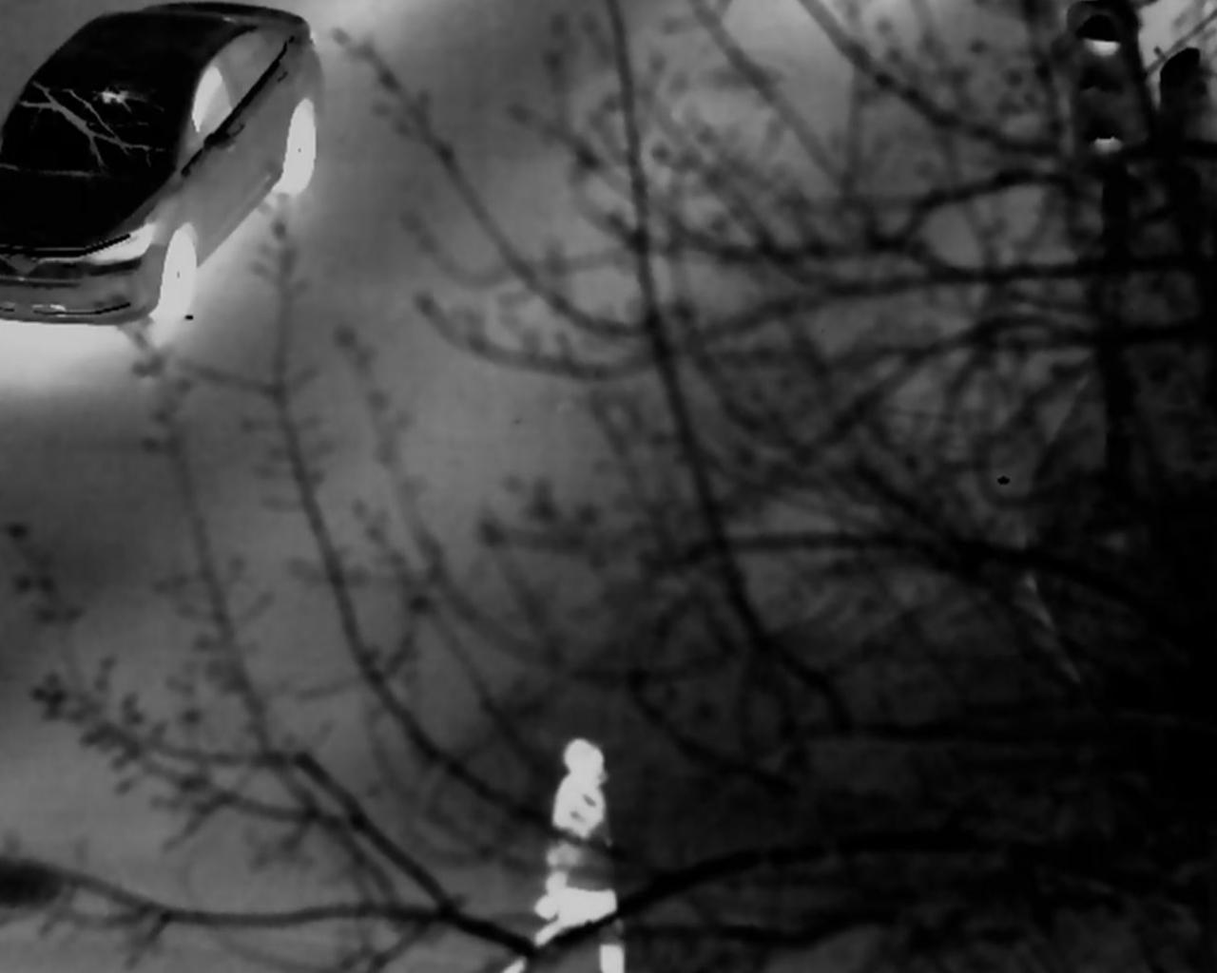person: (529, 736, 632, 973)
